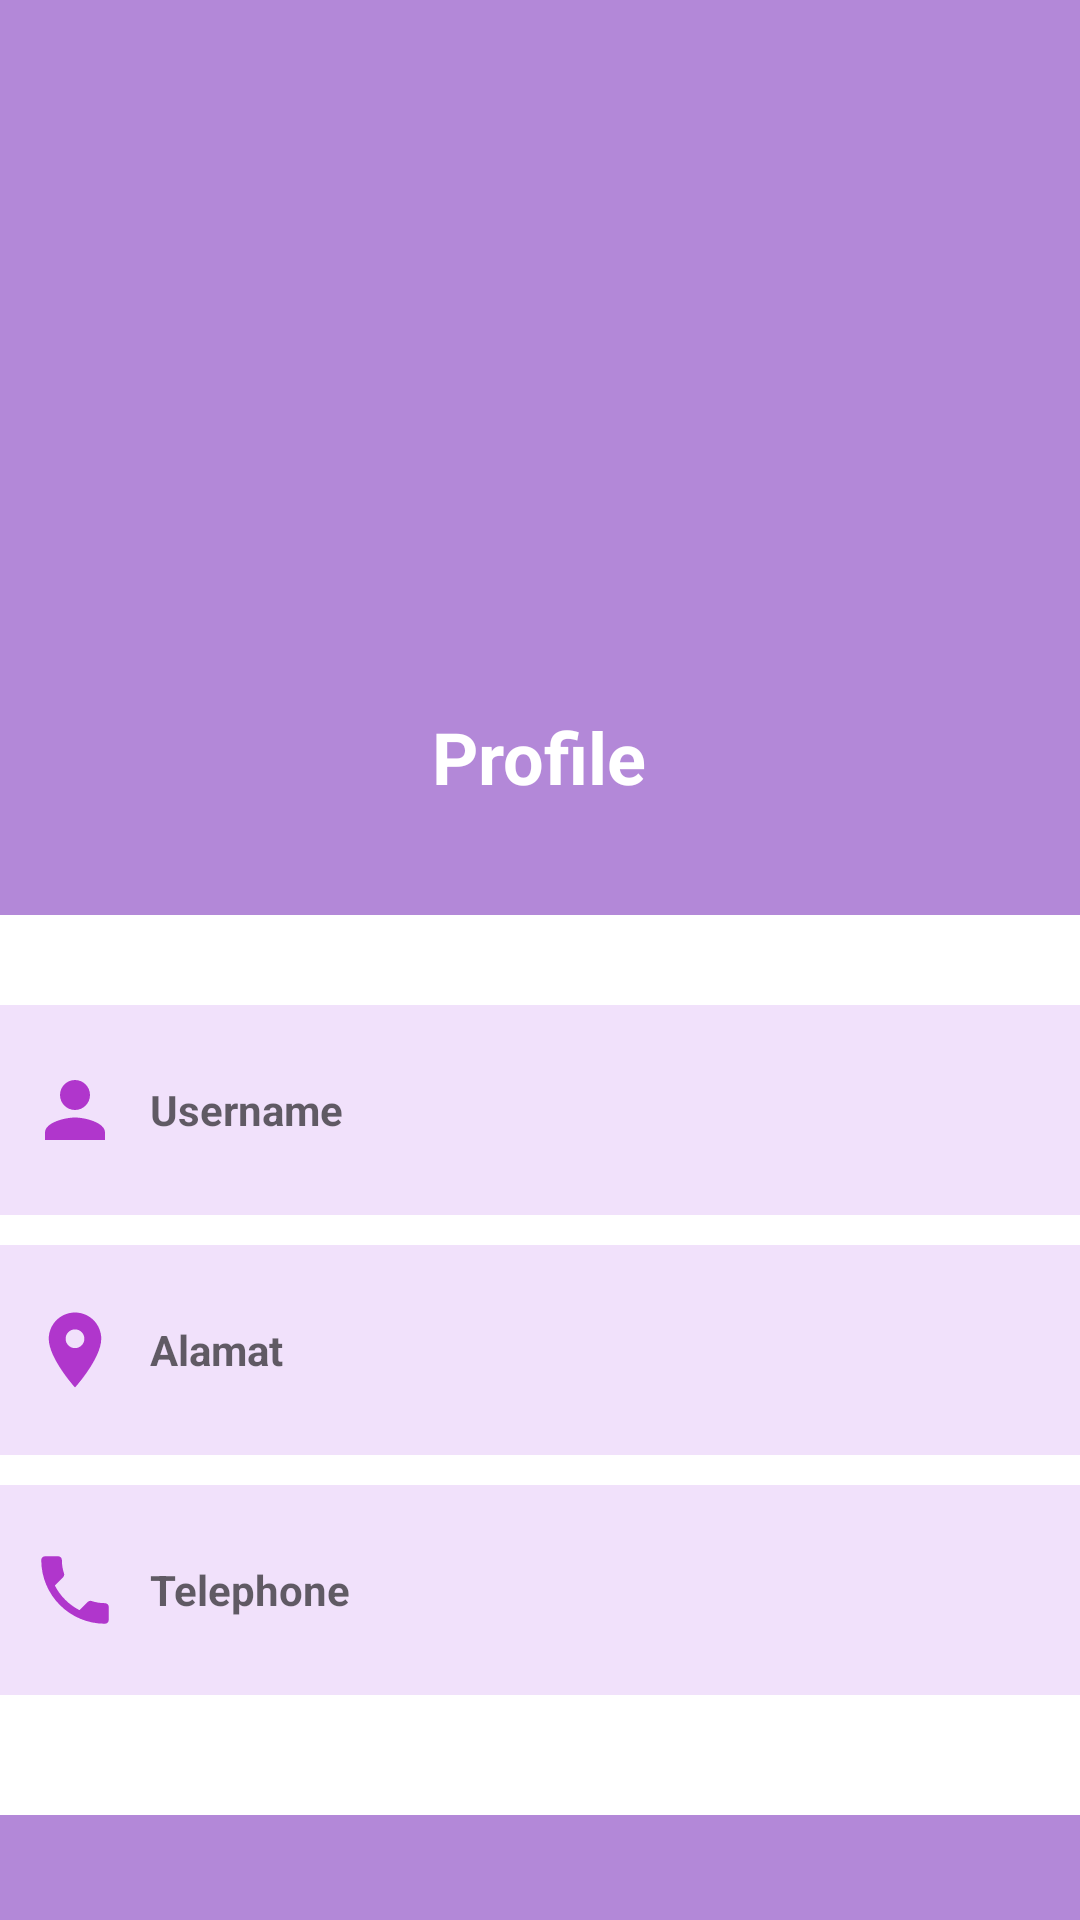

Where to tap for icons on this 1080 x 1920 app screen, as (x=x, y=y):
local phone: (x=75, y=1590)
location on: (x=75, y=1349)
person: (x=75, y=1110)
